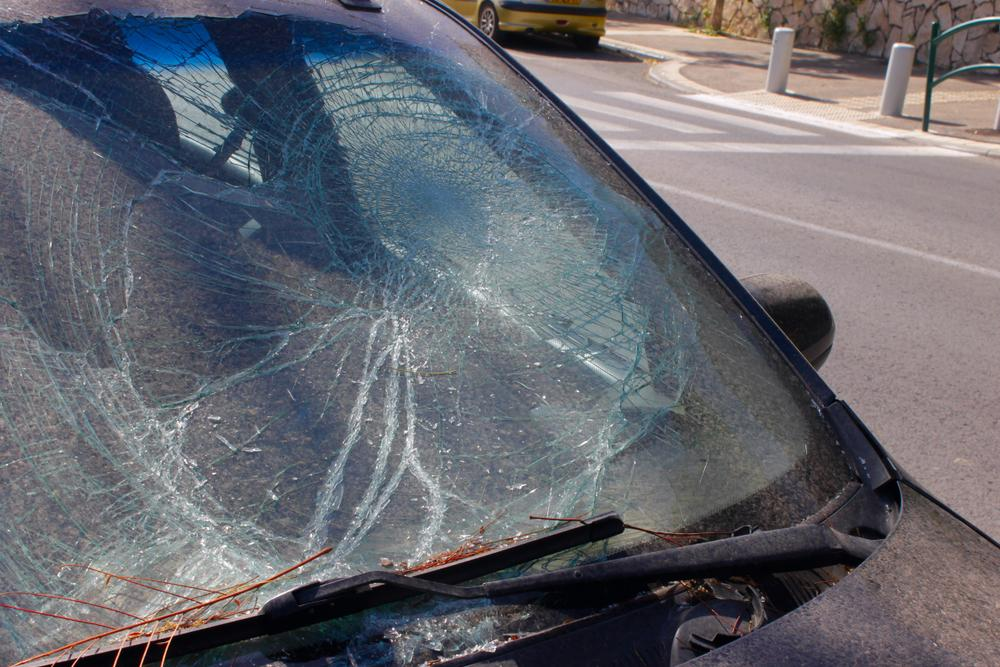glass shatter: (0, 0, 855, 667)
